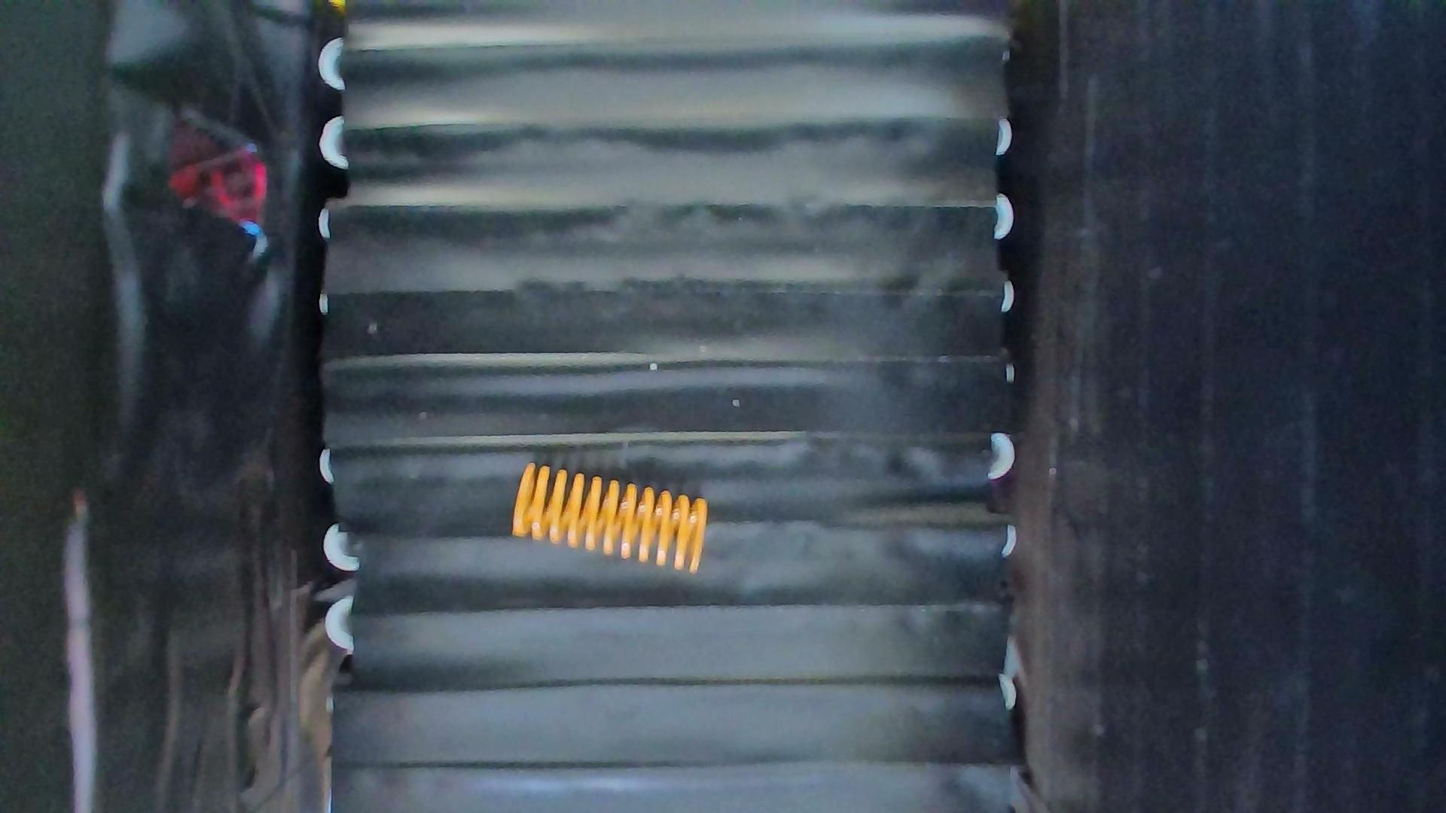spring: (511, 462, 708, 574)
